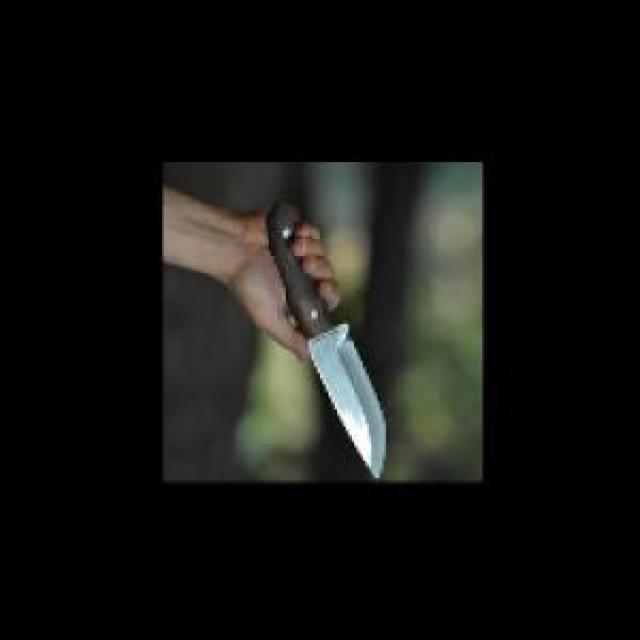knife: (268, 203, 394, 482)
